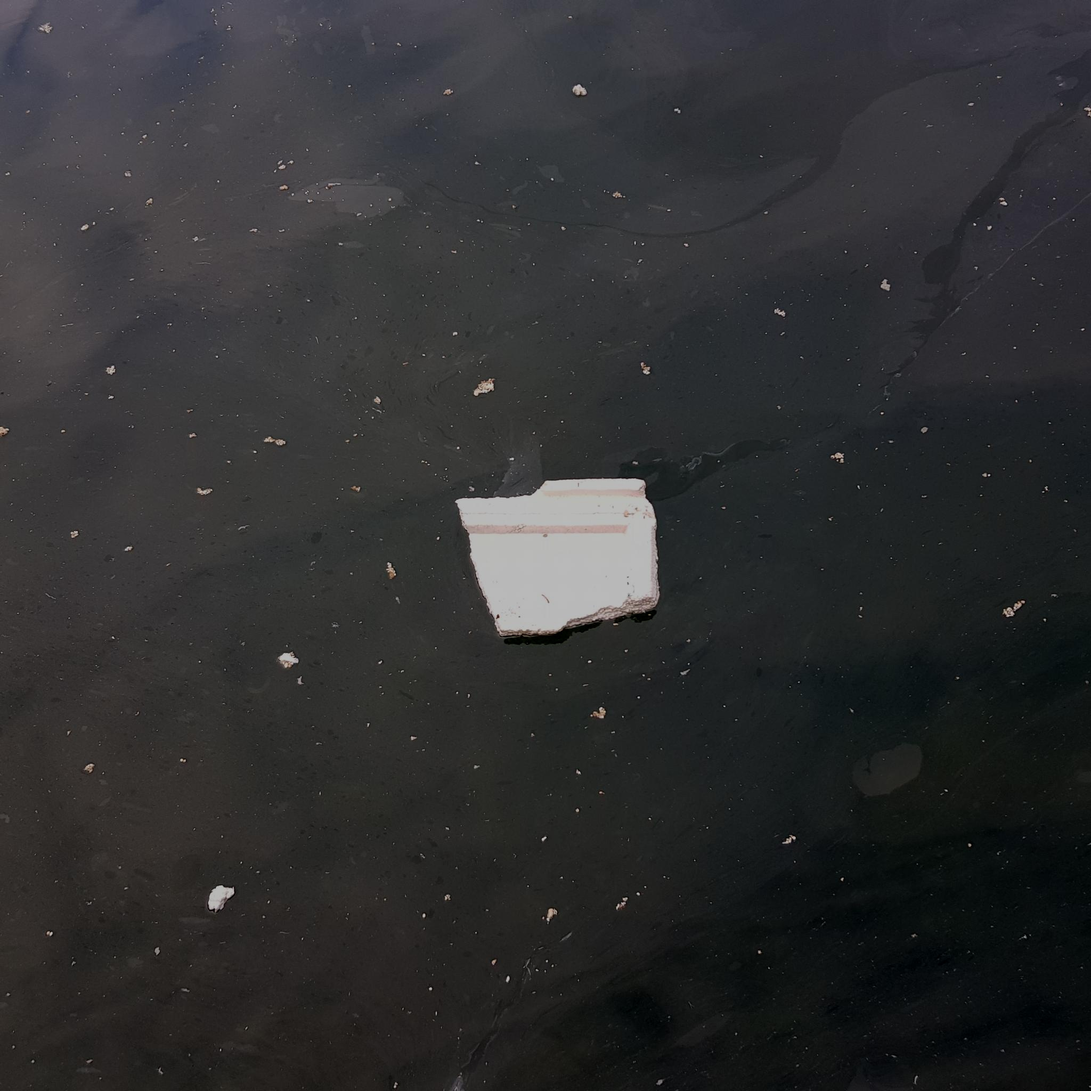sampah_terapung: (455, 478, 660, 638)
